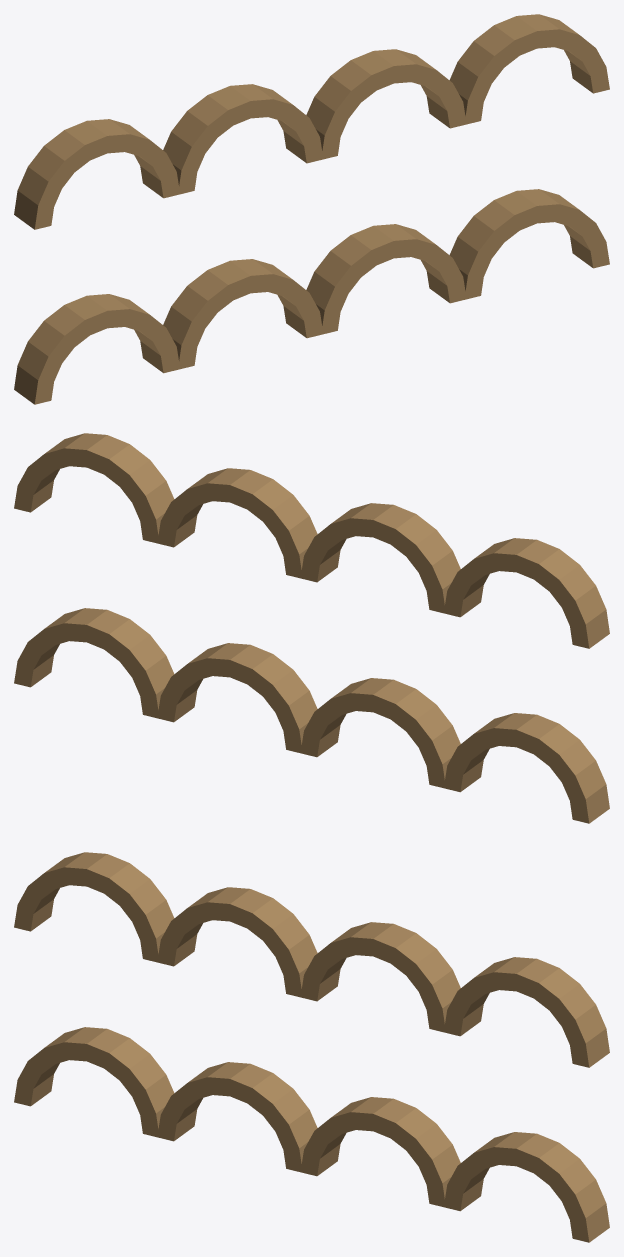
The model's file is StageFacade_WallShade.fbx.
The picture shows the model from 3 angles, top to bottom: view 1: azimuth 30°, elevation 25°; view 2: azimuth 150°, elevation 25°; view 3: azimuth 330°, elevation 25°; orthographic projection.
Parts seen in each view (by area): view 1: FacadeArch0_-24.001; view 2: FacadeArch0_-24.001; view 3: FacadeArch0_-24.001.
Boxes of the visible parts, bbox=[...] form: FacadeArch0_-24.001: bbox=[14, 14, 609, 404]; FacadeArch0_-24.001: bbox=[14, 433, 609, 823]; FacadeArch0_-24.001: bbox=[14, 852, 609, 1242].
Size of the model in its own units: 4820 by 2010 by 300.
